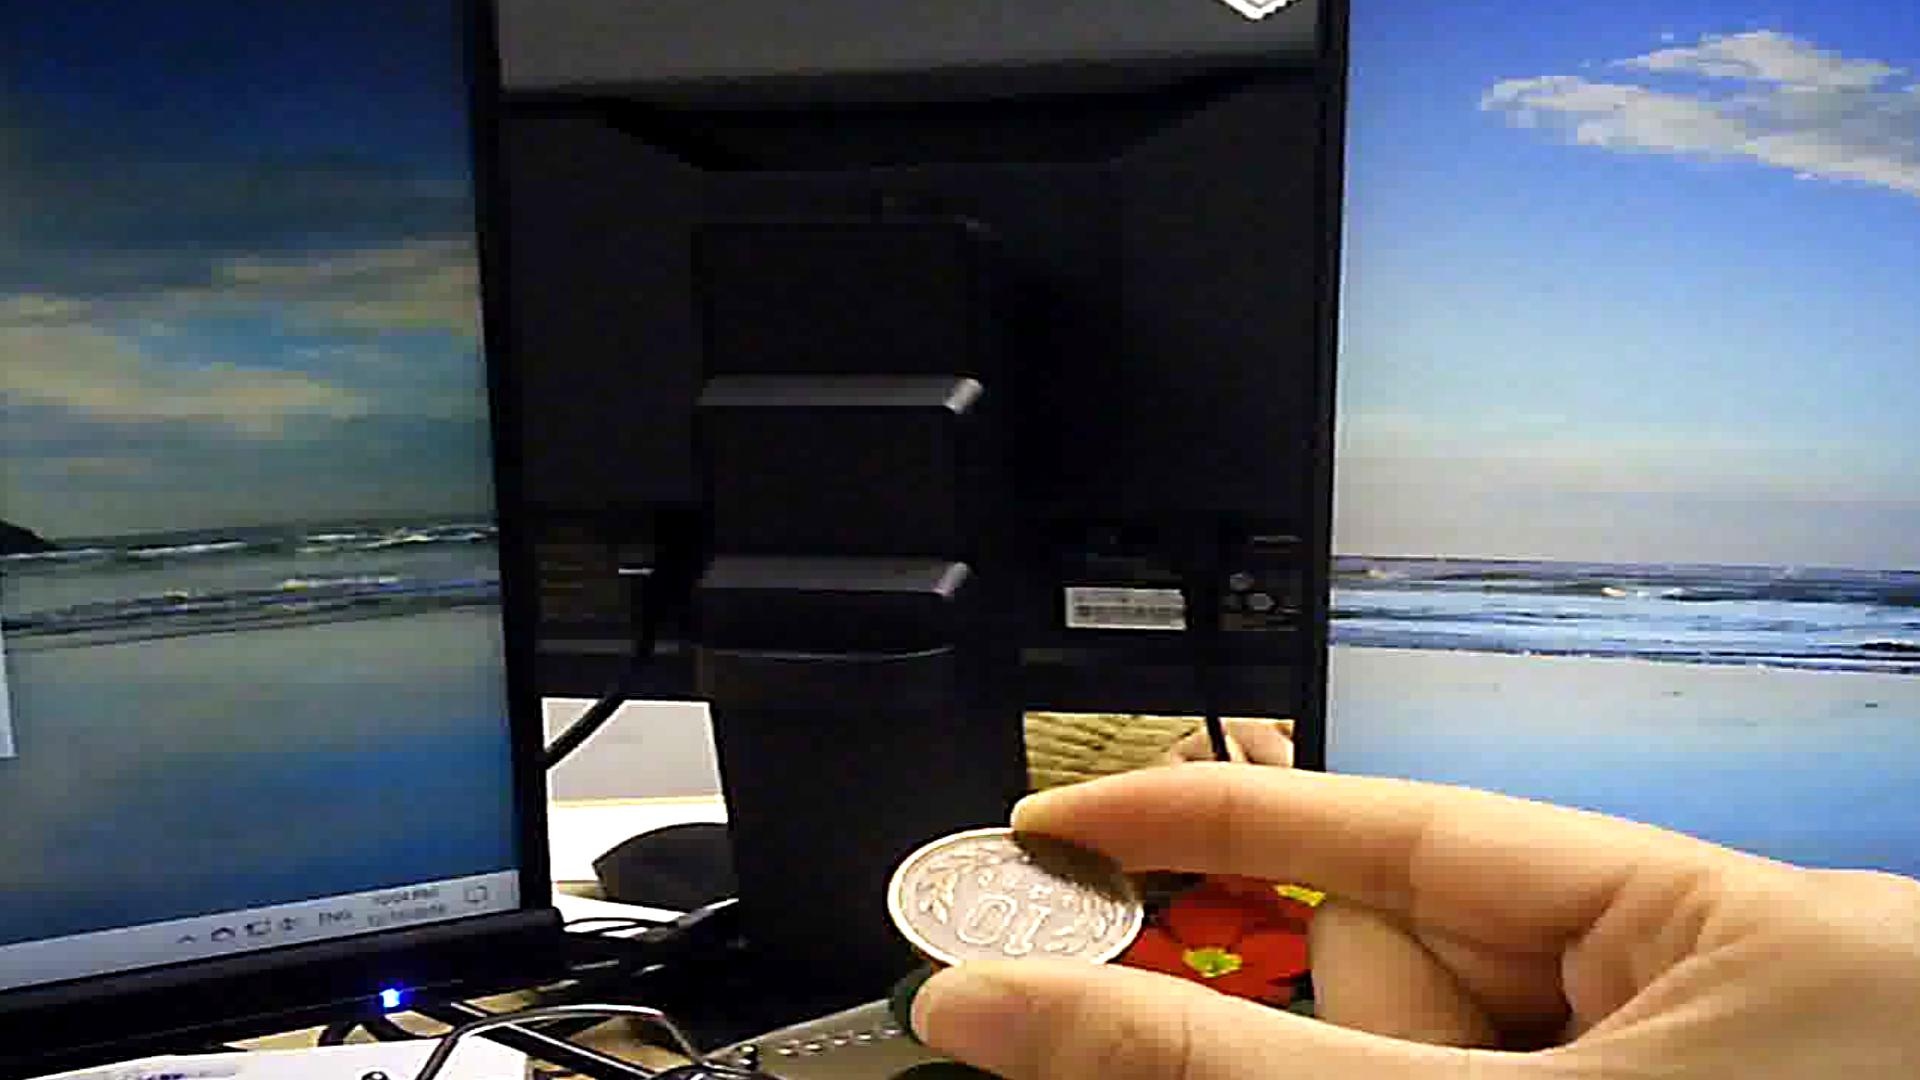10 Yen: (880, 814, 1142, 973)
